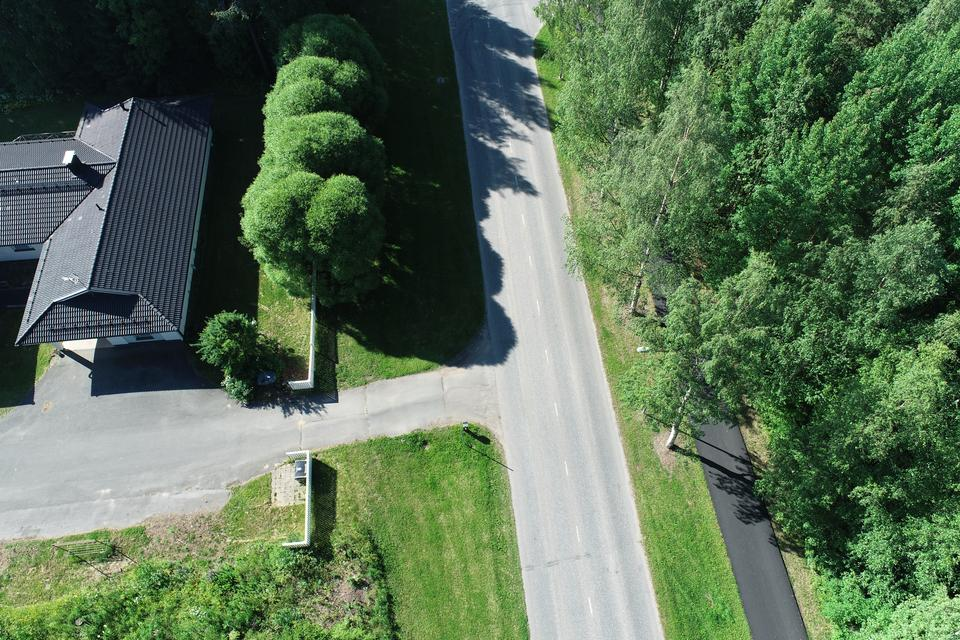intersection: (450, 299, 645, 462)
